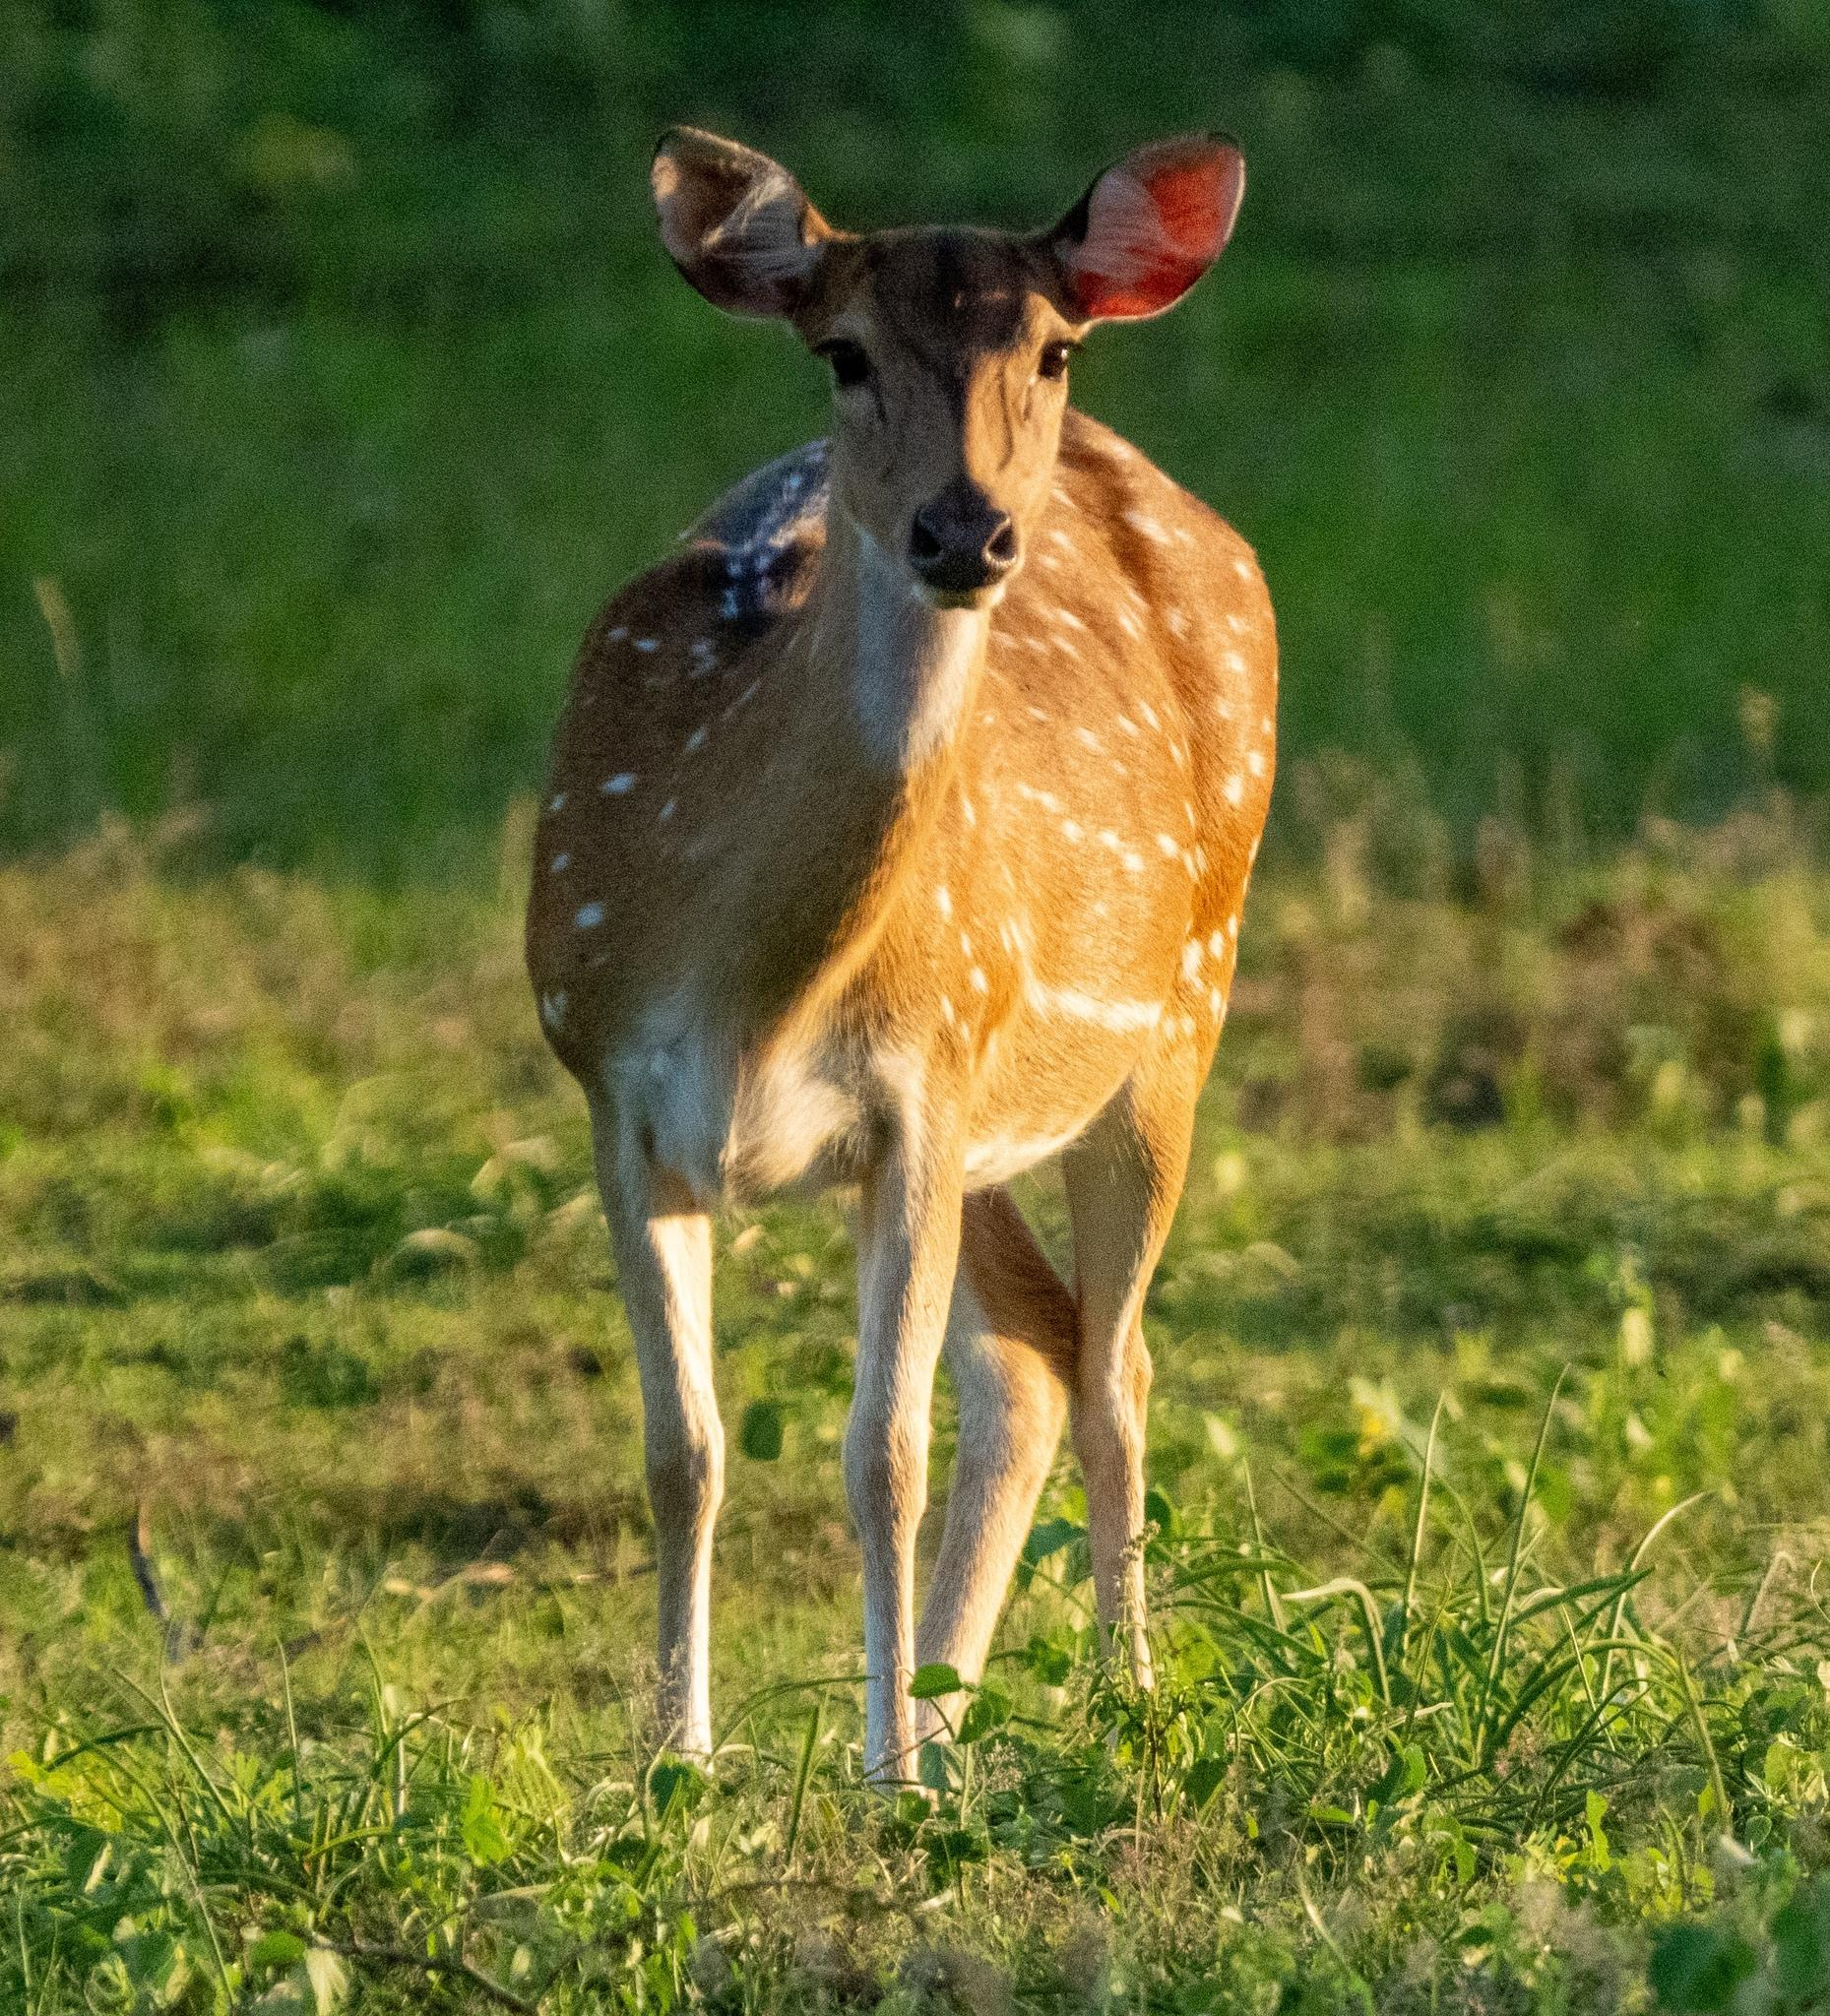Deer: (527, 126, 1277, 1779)
